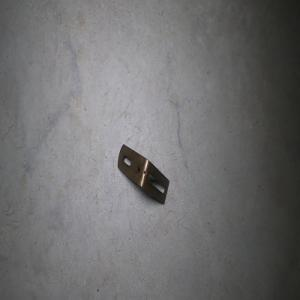MetalPart: (116, 142, 170, 205)
